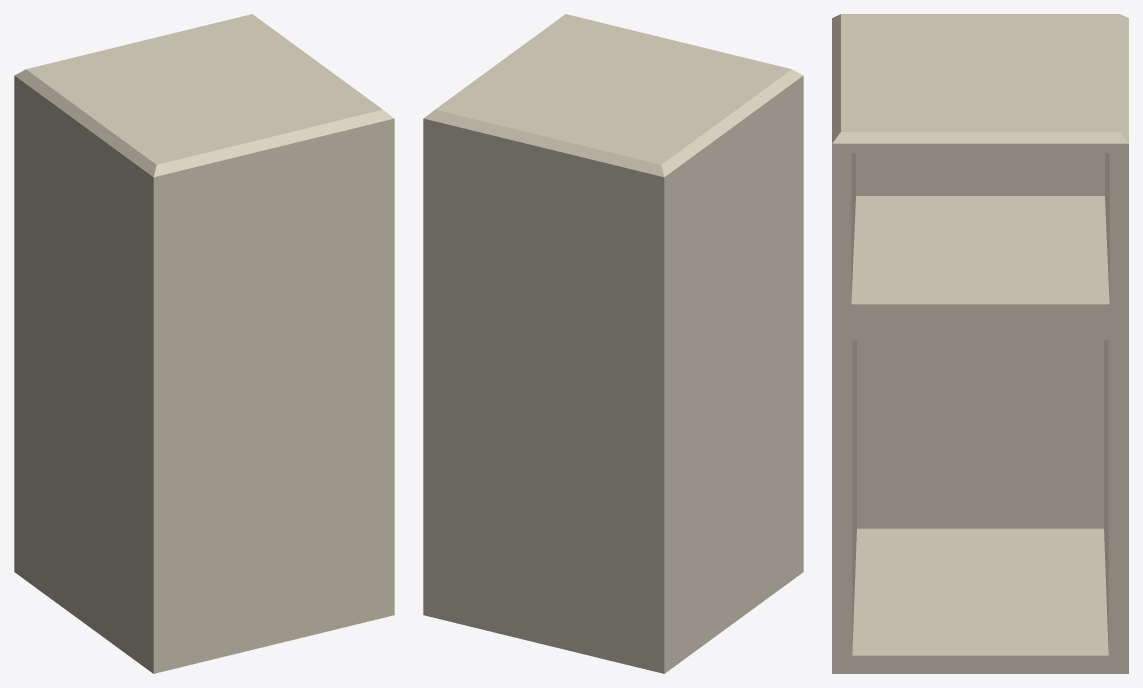
Rendered from FridgeBaseV1.fbx.
3 renders of one model, left to right at view 1: azimuth 30°, elevation 25°; view 2: azimuth 150°, elevation 25°; view 3: azimuth 270°, elevation 25°, orthographic. The views are drawn at different scales.
Parts seen in each view (by area): view 1: Base; view 2: Base; view 3: Base.
Boxes of the visible parts, box(x1,y1,x2,y2) form: Base: box(14, 14, 394, 673); Base: box(423, 14, 803, 673); Base: box(832, 14, 1128, 673).
Bounding box in the file's own units: 500 × 500 × 1000.
